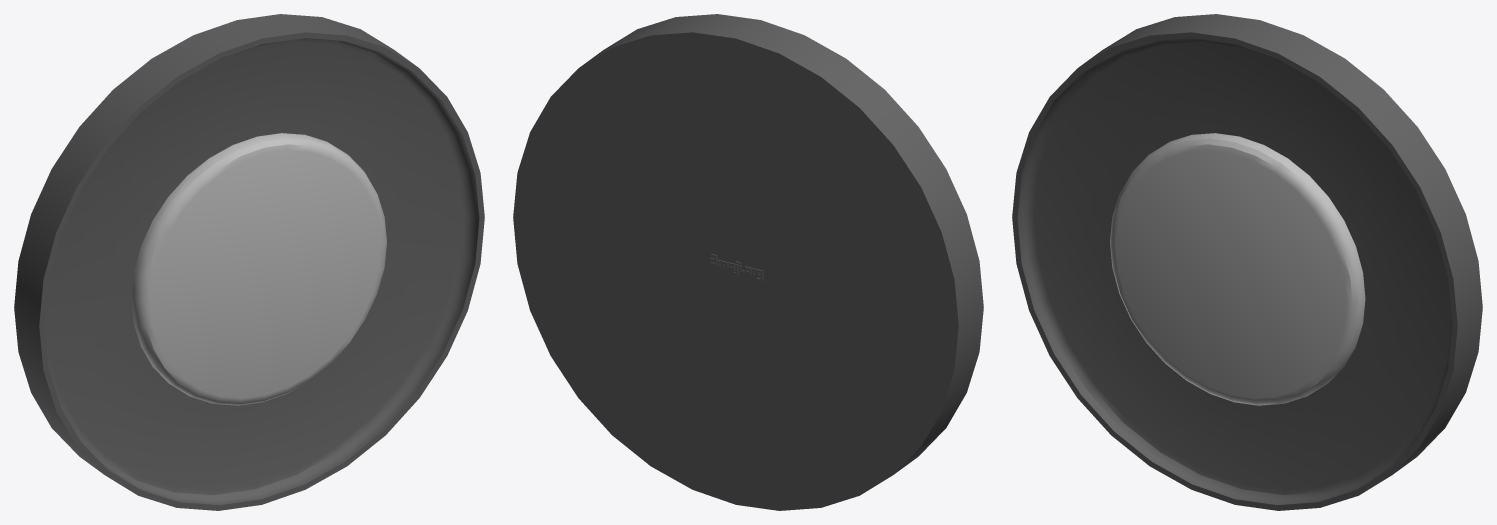
File: radio_button.fbx
The picture shows the model from 3 angles, left to right: view 1: azimuth 30°, elevation 25°; view 2: azimuth 150°, elevation 25°; view 3: azimuth 330°, elevation 25°; orthographic projection.
Parts seen in each view (by area): view 1: Circle.2653; view 2: Circle.2653; view 3: Circle.2653.
Part boxes in pixels (x1=…): Circle.2653: x1=14, y1=14, x2=484, y2=510; Circle.2653: x1=513, y1=14, x2=983, y2=510; Circle.2653: x1=1012, y1=14, x2=1482, y2=510.
Bounding box in the file's own units: 225 × 225 × 25.73.
1 material, 1 textured.
